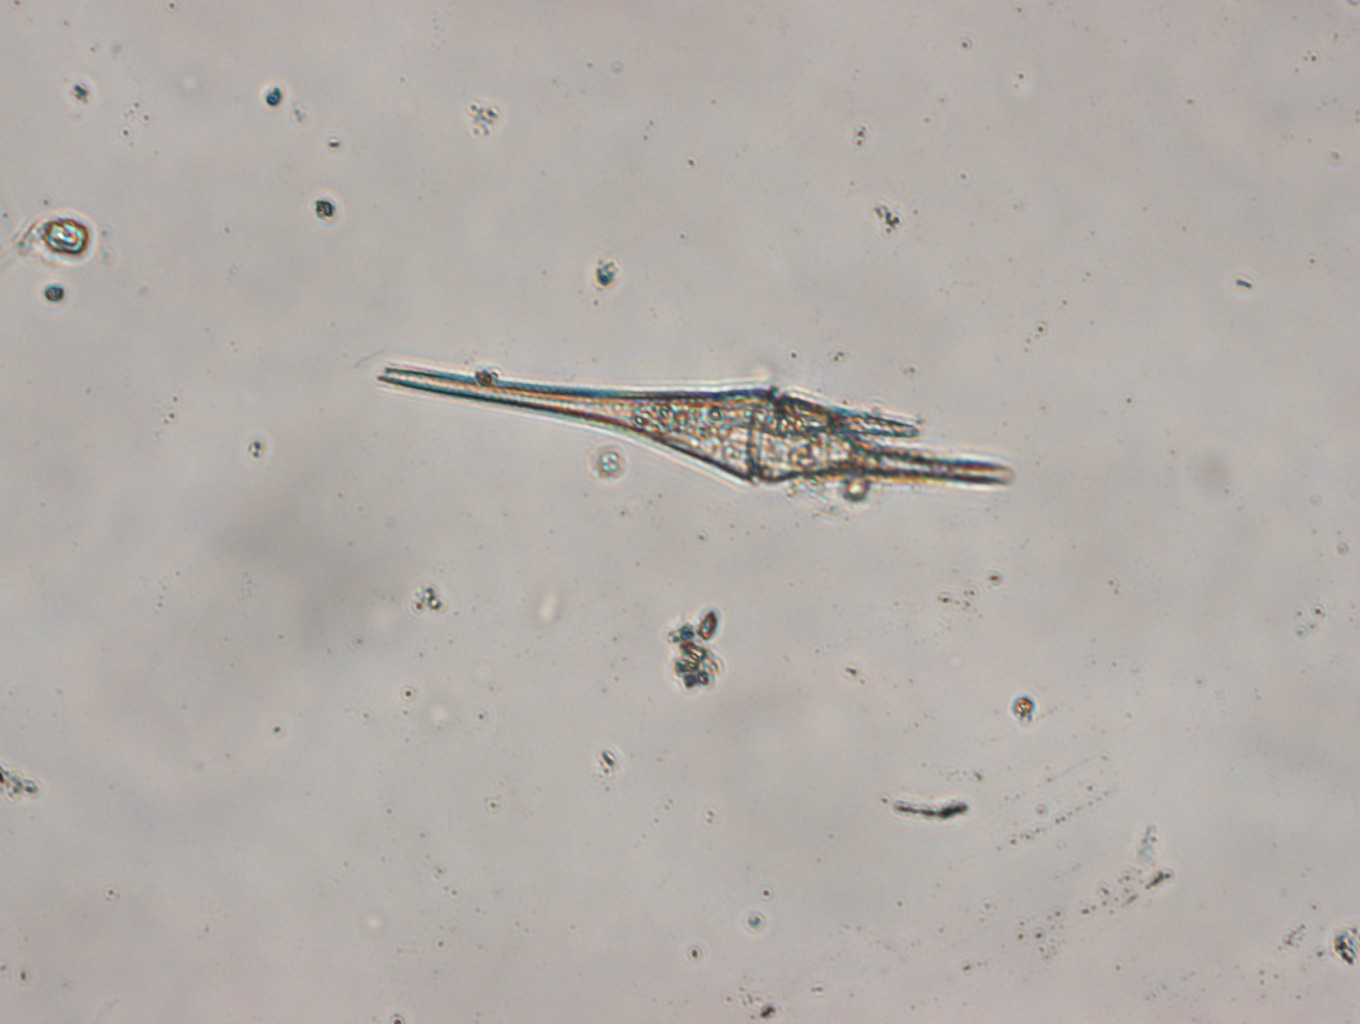ceratium furca: (374, 358, 1018, 495)
